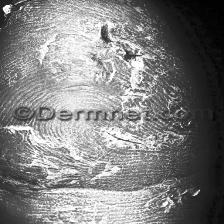Non-Cancerous Skin Condition: (0, 125, 182, 224), (33, 0, 173, 104)
